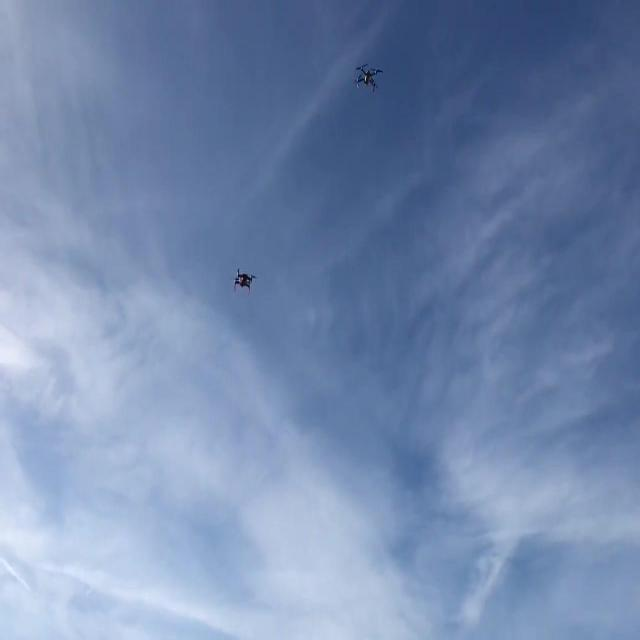drone: (352, 64, 383, 96), (231, 264, 256, 294)
